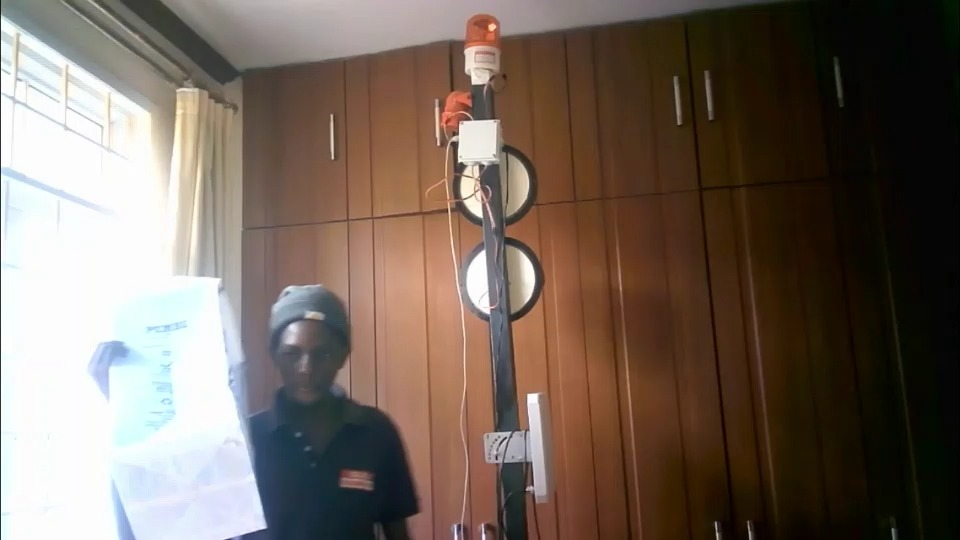wheat_flour_blue_label: (92, 279, 268, 540)
